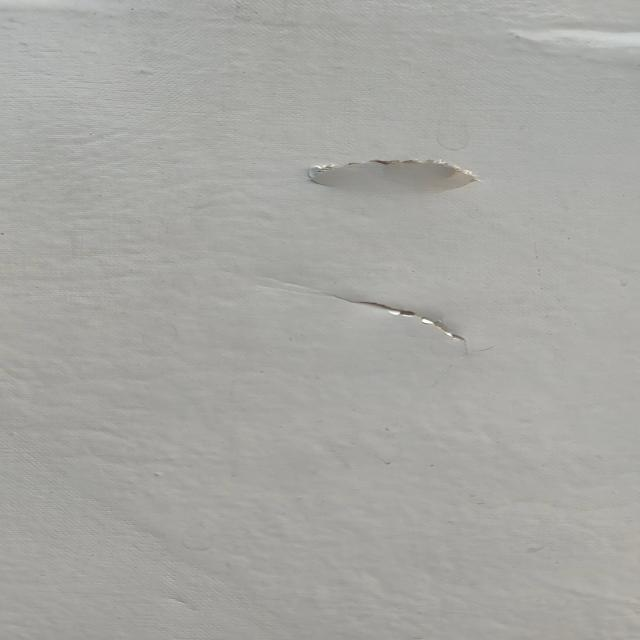Dents or Deformation: (465, 14, 640, 65)
Scratches: (328, 288, 500, 362), (287, 151, 519, 204)
